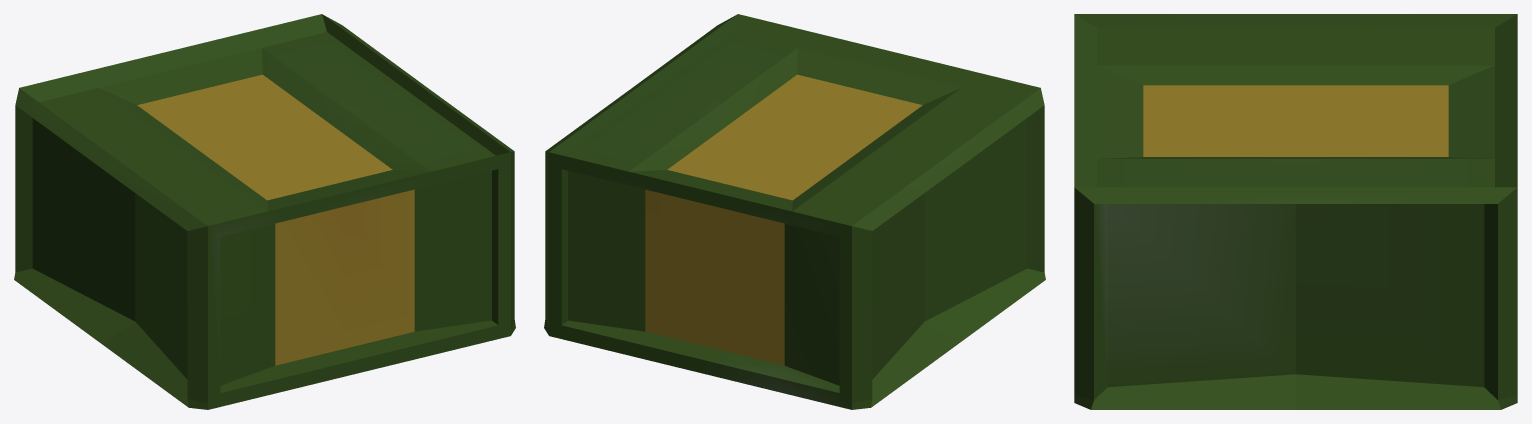
File: CaixaMilitar.fbx
The picture shows the model from 3 angles, left to right: view 1: azimuth 30°, elevation 25°; view 2: azimuth 150°, elevation 25°; view 3: azimuth 270°, elevation 25°; orthographic projection. The views are drawn at different scales.
Visible parts, largest first — view 1: LOD_0; view 2: LOD_0; view 3: LOD_0.
Boxes of the visible parts, <box> form: LOD_0: <box>14,14,515,409</box>; LOD_0: <box>544,14,1045,409</box>; LOD_0: <box>1074,14,1517,409</box>.
Size of what is drawn, in the model's own units: 200 by 107 by 200.
